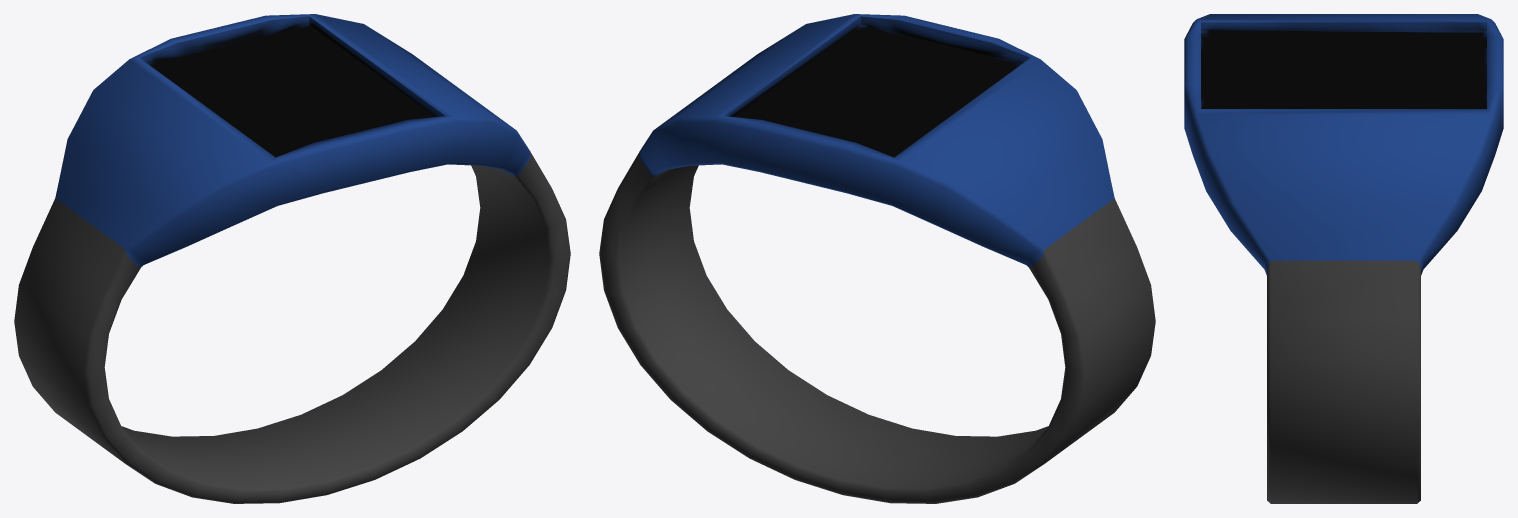
The model's file is watch1.glb.
3 views of the same model, side by side, from view 1: azimuth 30°, elevation 25°; view 2: azimuth 150°, elevation 25°; view 3: azimuth 270°, elevation 25° (orthographic). The views are drawn at different scales.
Visible parts, largest first — view 1: Watch; view 2: Watch; view 3: Watch.
Part boxes in pixels (bbox=[...]): Watch: bbox=[14, 14, 570, 503]; Watch: bbox=[599, 14, 1155, 503]; Watch: bbox=[1184, 14, 1503, 503].
Size of the model in its own units: 0.0765 by 0.0583 by 0.0415.
Materials: 1 (1 with a texture image).
